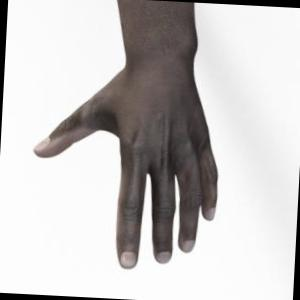paper: (34, 0, 217, 268)
